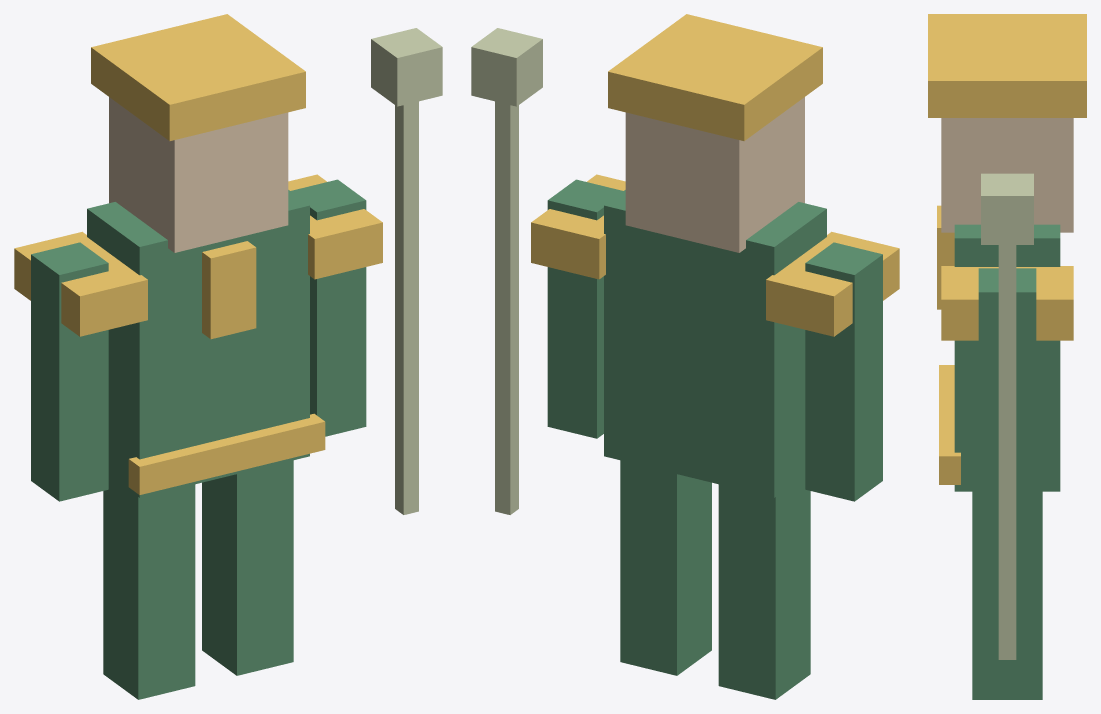
Rendered from 03_maelis_frostrelay_guide_at_spectator.glb.
3 renders of one model, left to right at view 1: azimuth 30°, elevation 25°; view 2: azimuth 150°, elevation 25°; view 3: azimuth 270°, elevation 25°, orthographic.
Visible parts, largest first — view 1: Maelis Frostrelay, Guide at Spectator; view 2: Maelis Frostrelay, Guide at Spectator; view 3: Maelis Frostrelay, Guide at Spectator.
Part boxes in pixels (x1,y1,x2,y2): Maelis Frostrelay, Guide at Spectator: (14, 14, 442, 699); Maelis Frostrelay, Guide at Spectator: (471, 14, 899, 699); Maelis Frostrelay, Guide at Spectator: (928, 14, 1086, 699).
Size of the model in its own units: 1.04 by 1.57 by 0.3685.
